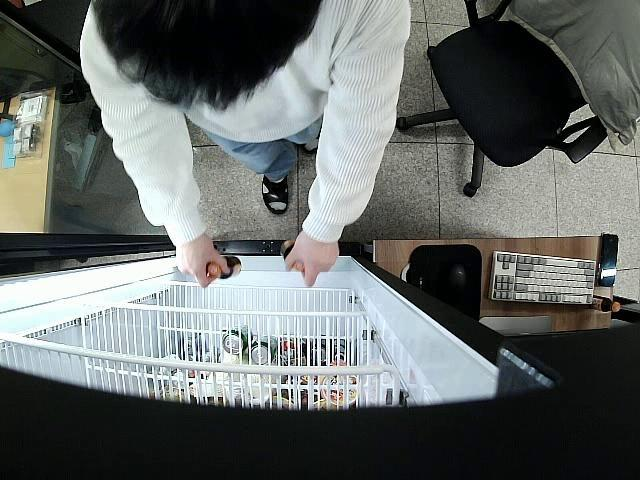17_vita500: (206, 255, 242, 282), (280, 240, 306, 277)
